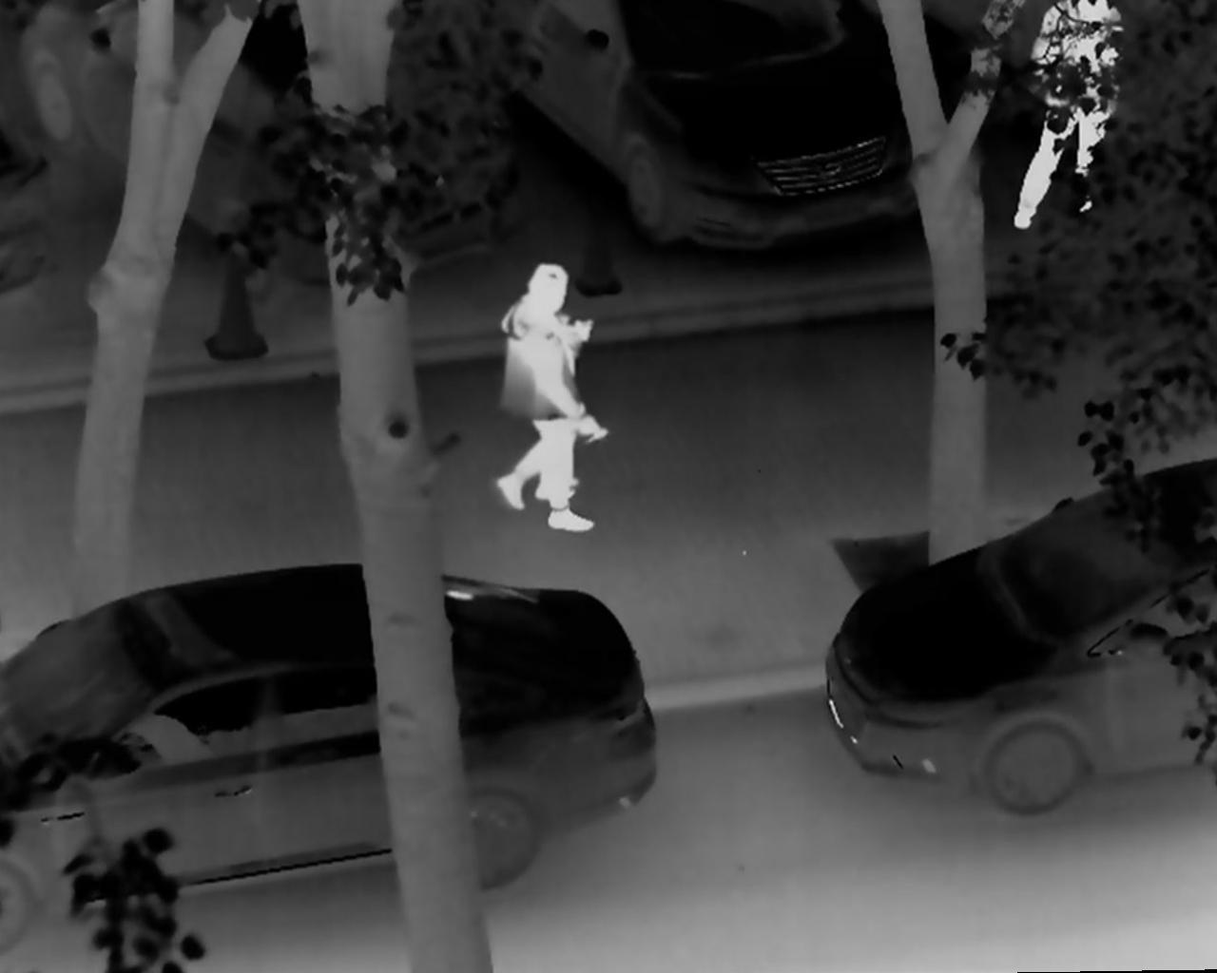person: (492, 272, 608, 531), (526, 260, 597, 501)
